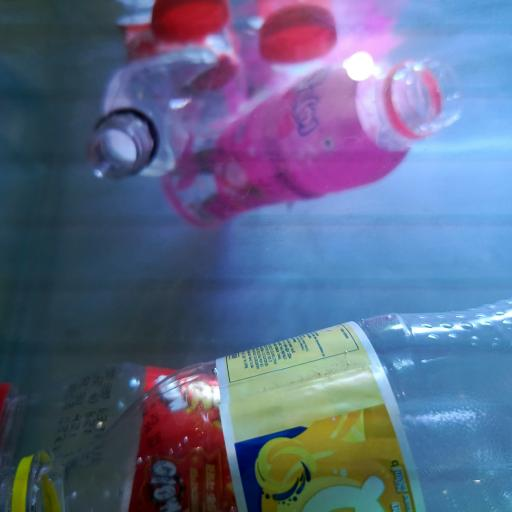bottle_cap: (259, 6, 336, 64), (151, 0, 230, 48)
plastic_bottle: (1, 301, 512, 511), (2, 355, 481, 512), (160, 42, 464, 235), (90, 0, 250, 186)
